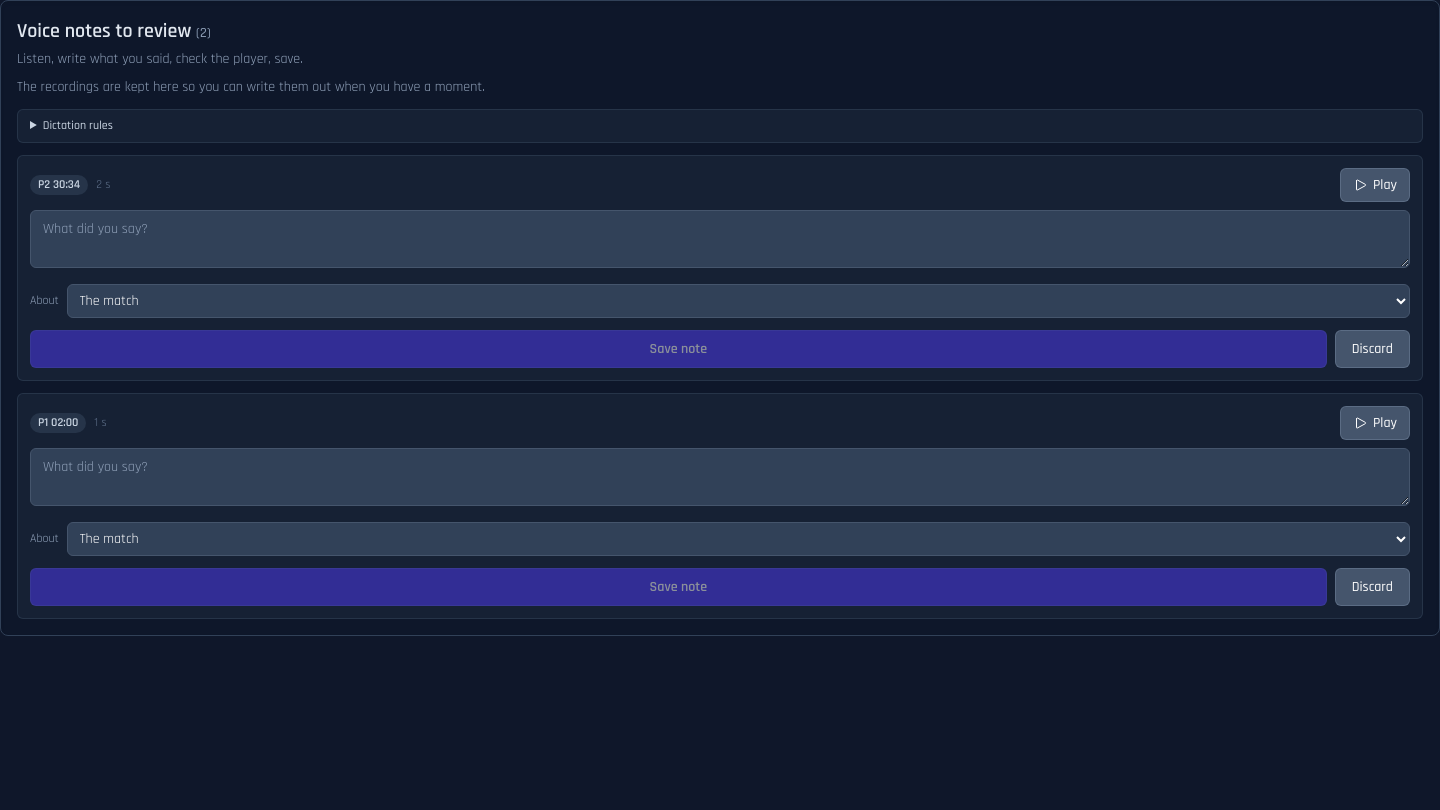
DictationInbox › accept passes time, period, text and the chosen player up, then deletes the clip
Expected: the button with test id "dictation-accept" is disabled, [30,330,1327,368]
Type "  Emman syöttö  " into the text box with test id "dictation-text" at x=720, y=239, box [30,210,1410,268]
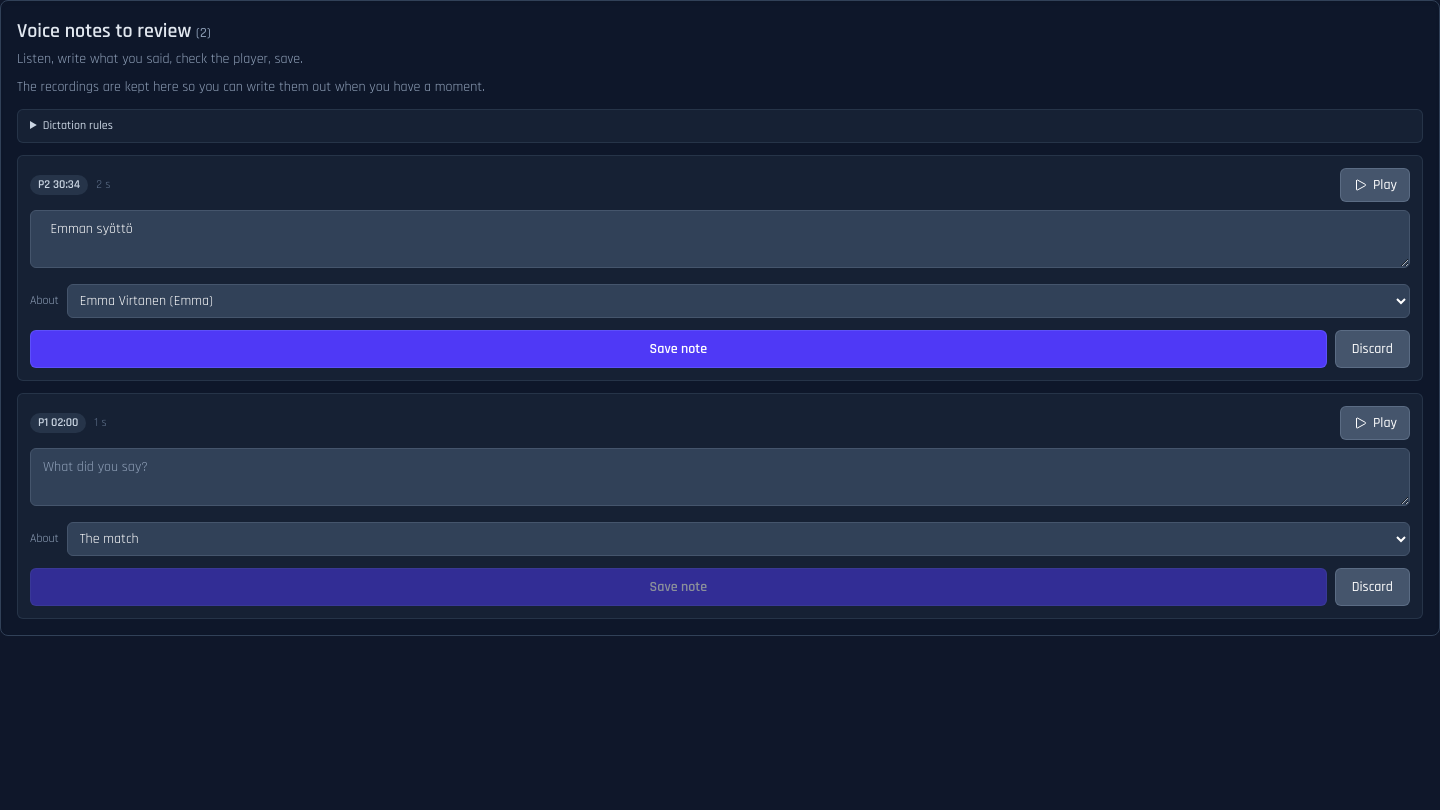
Click the button with test id "dictation-accept" at x=678, y=349, box [30,330,1327,368]
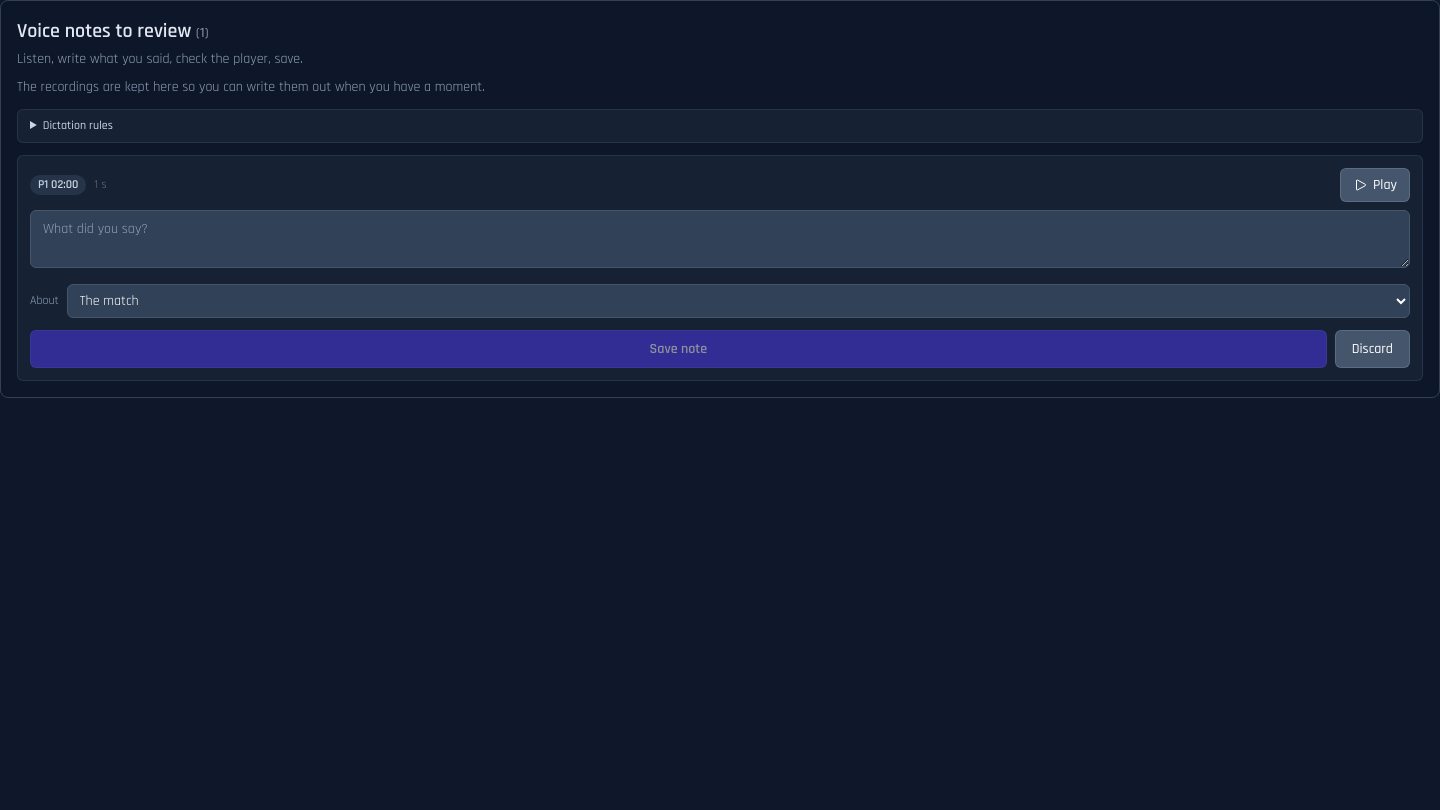
Now the number of list items with test id "dictation-clip" is 1, box [17,155,1423,381]
